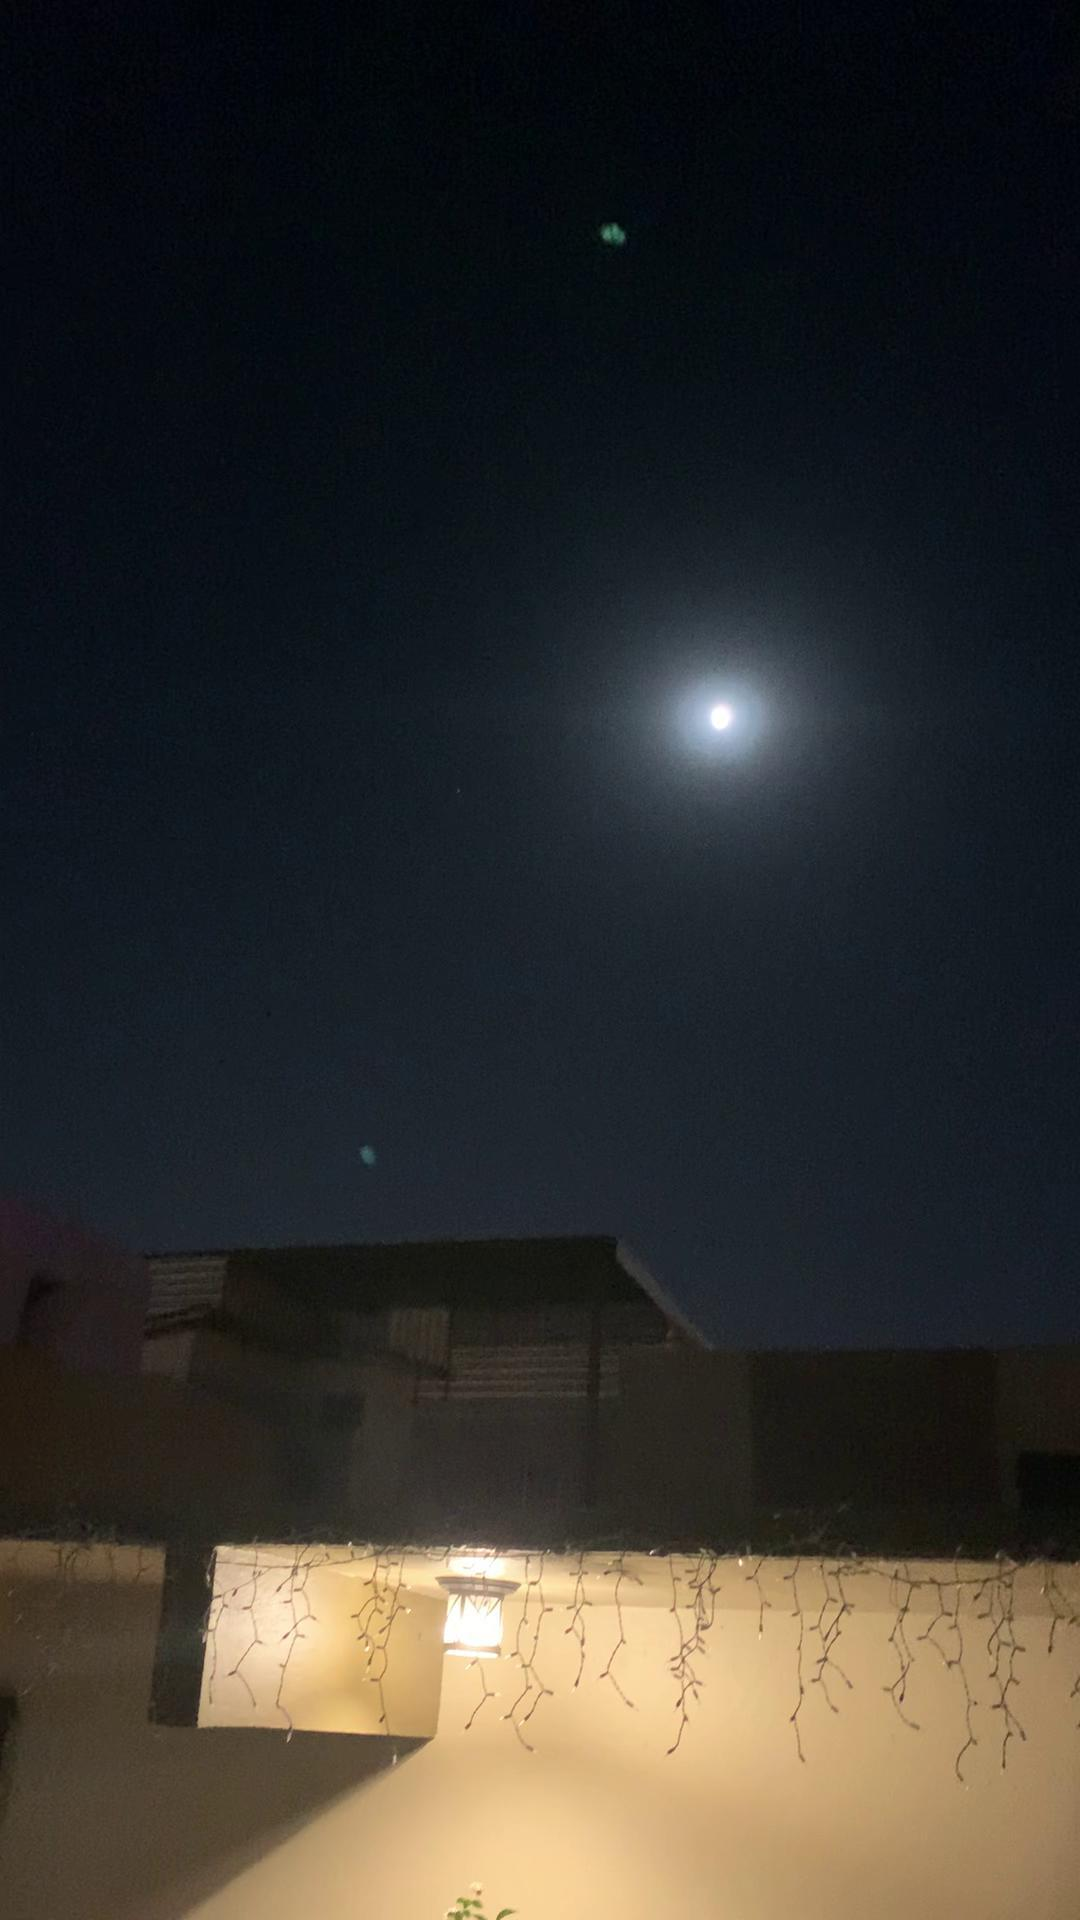moon: (678, 682, 765, 761)
